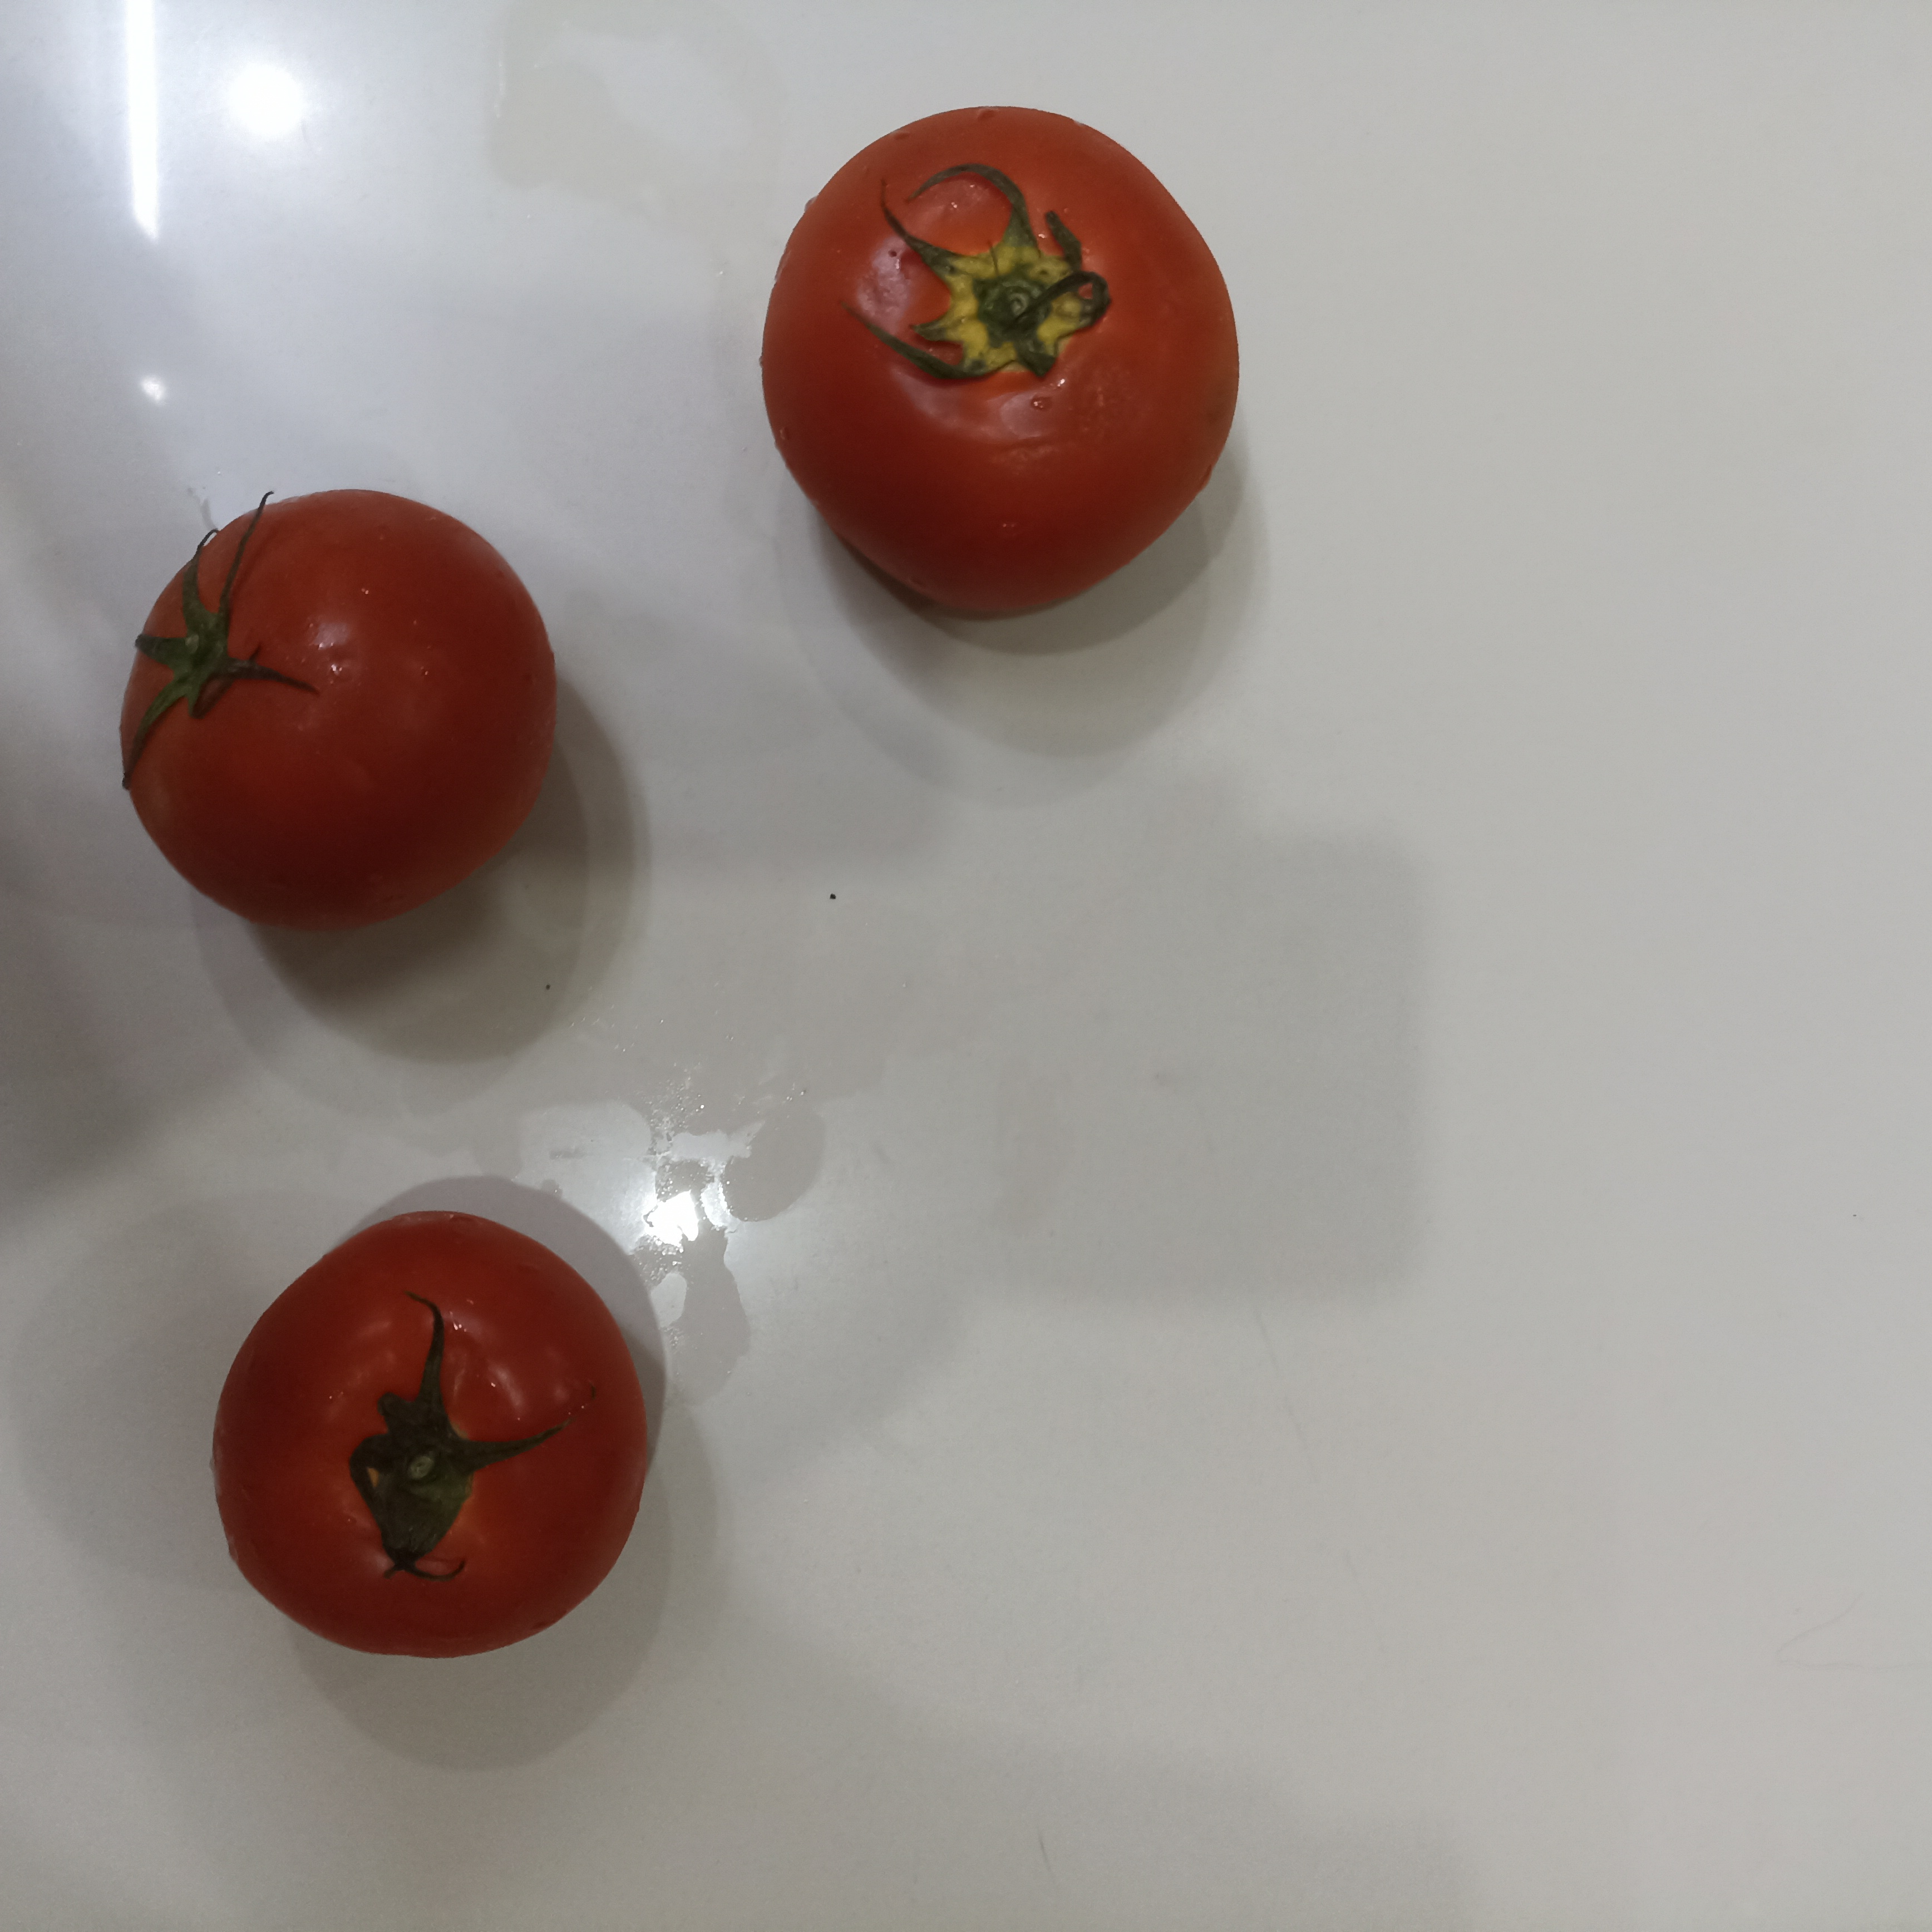Ca chua: (755, 104, 1240, 625), (207, 1207, 648, 1668), (113, 495, 556, 941)
